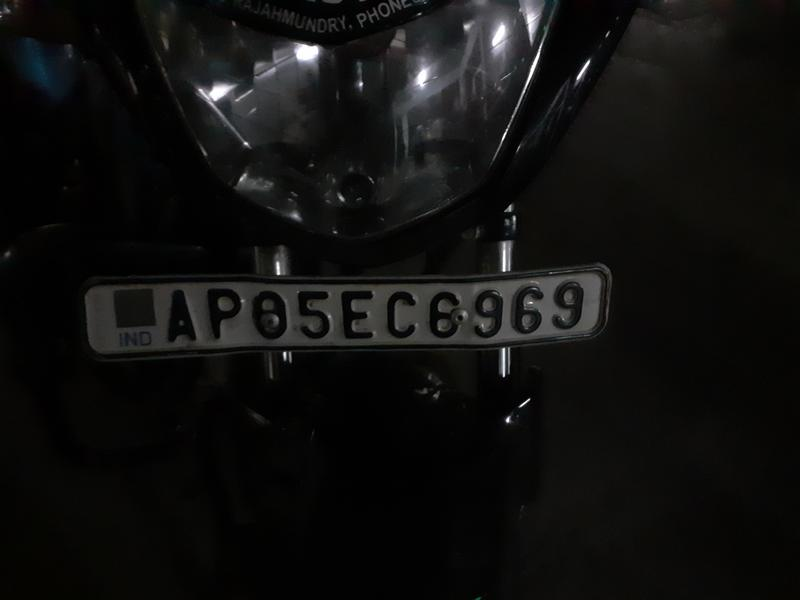numberplate: (80, 278, 636, 365)
